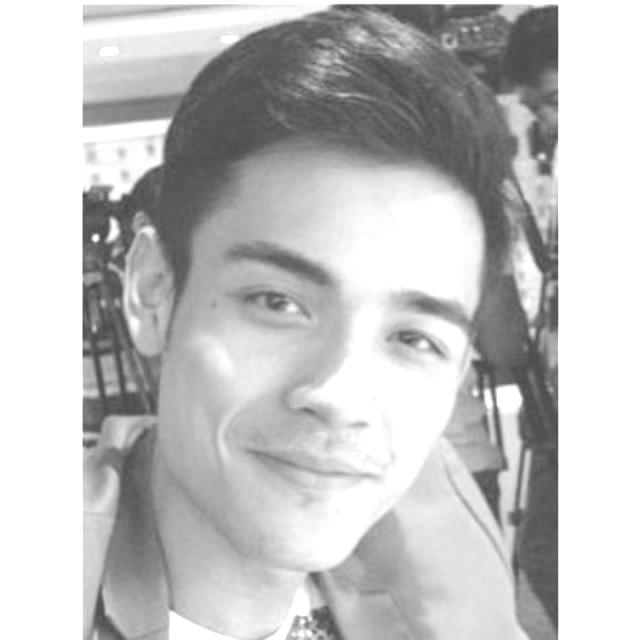real: (154, 179, 492, 576)
